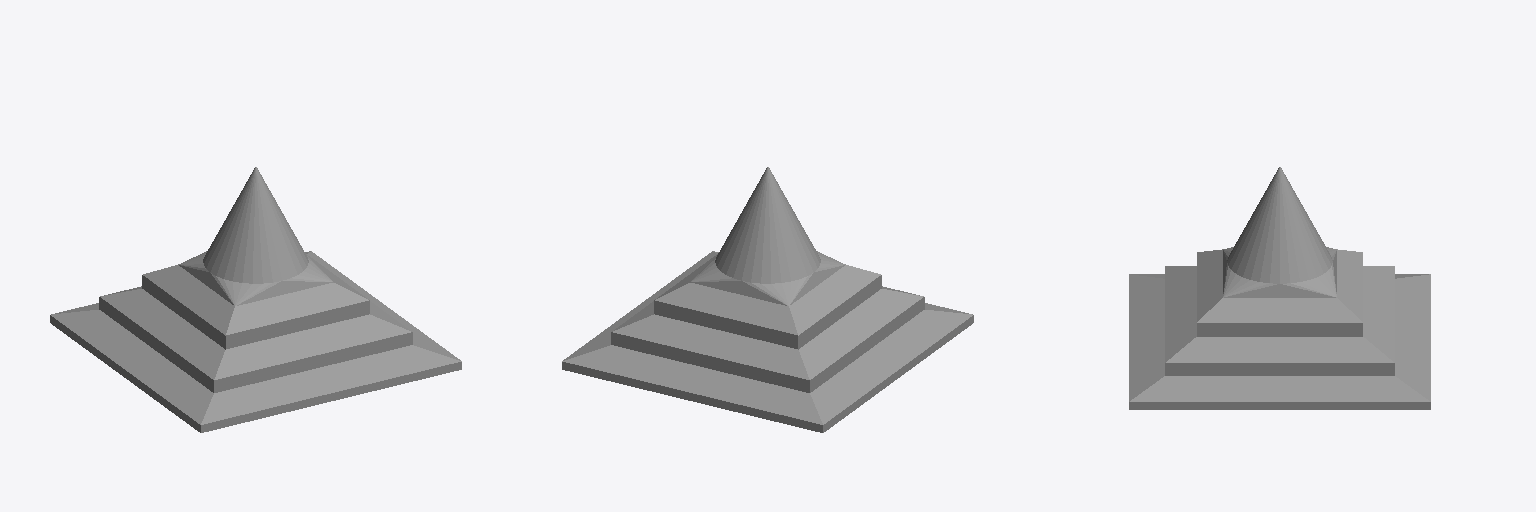
Rendered from dach.obj.
3 views of the same model, side by side, from view 1: azimuth 30°, elevation 25°; view 2: azimuth 150°, elevation 25°; view 3: azimuth 270°, elevation 25° (orthographic).
Parts seen in each view (by area): view 1: Cube; view 2: Cube; view 3: Cube.
Boxes of the visible parts, x1=… form: Cube: x1=50, y1=167, x2=461, y2=432; Cube: x1=562, y1=167, x2=973, y2=432; Cube: x1=1129, y1=167, x2=1430, y2=409.
Size of the model in its own units: 20 by 13.2 by 20.